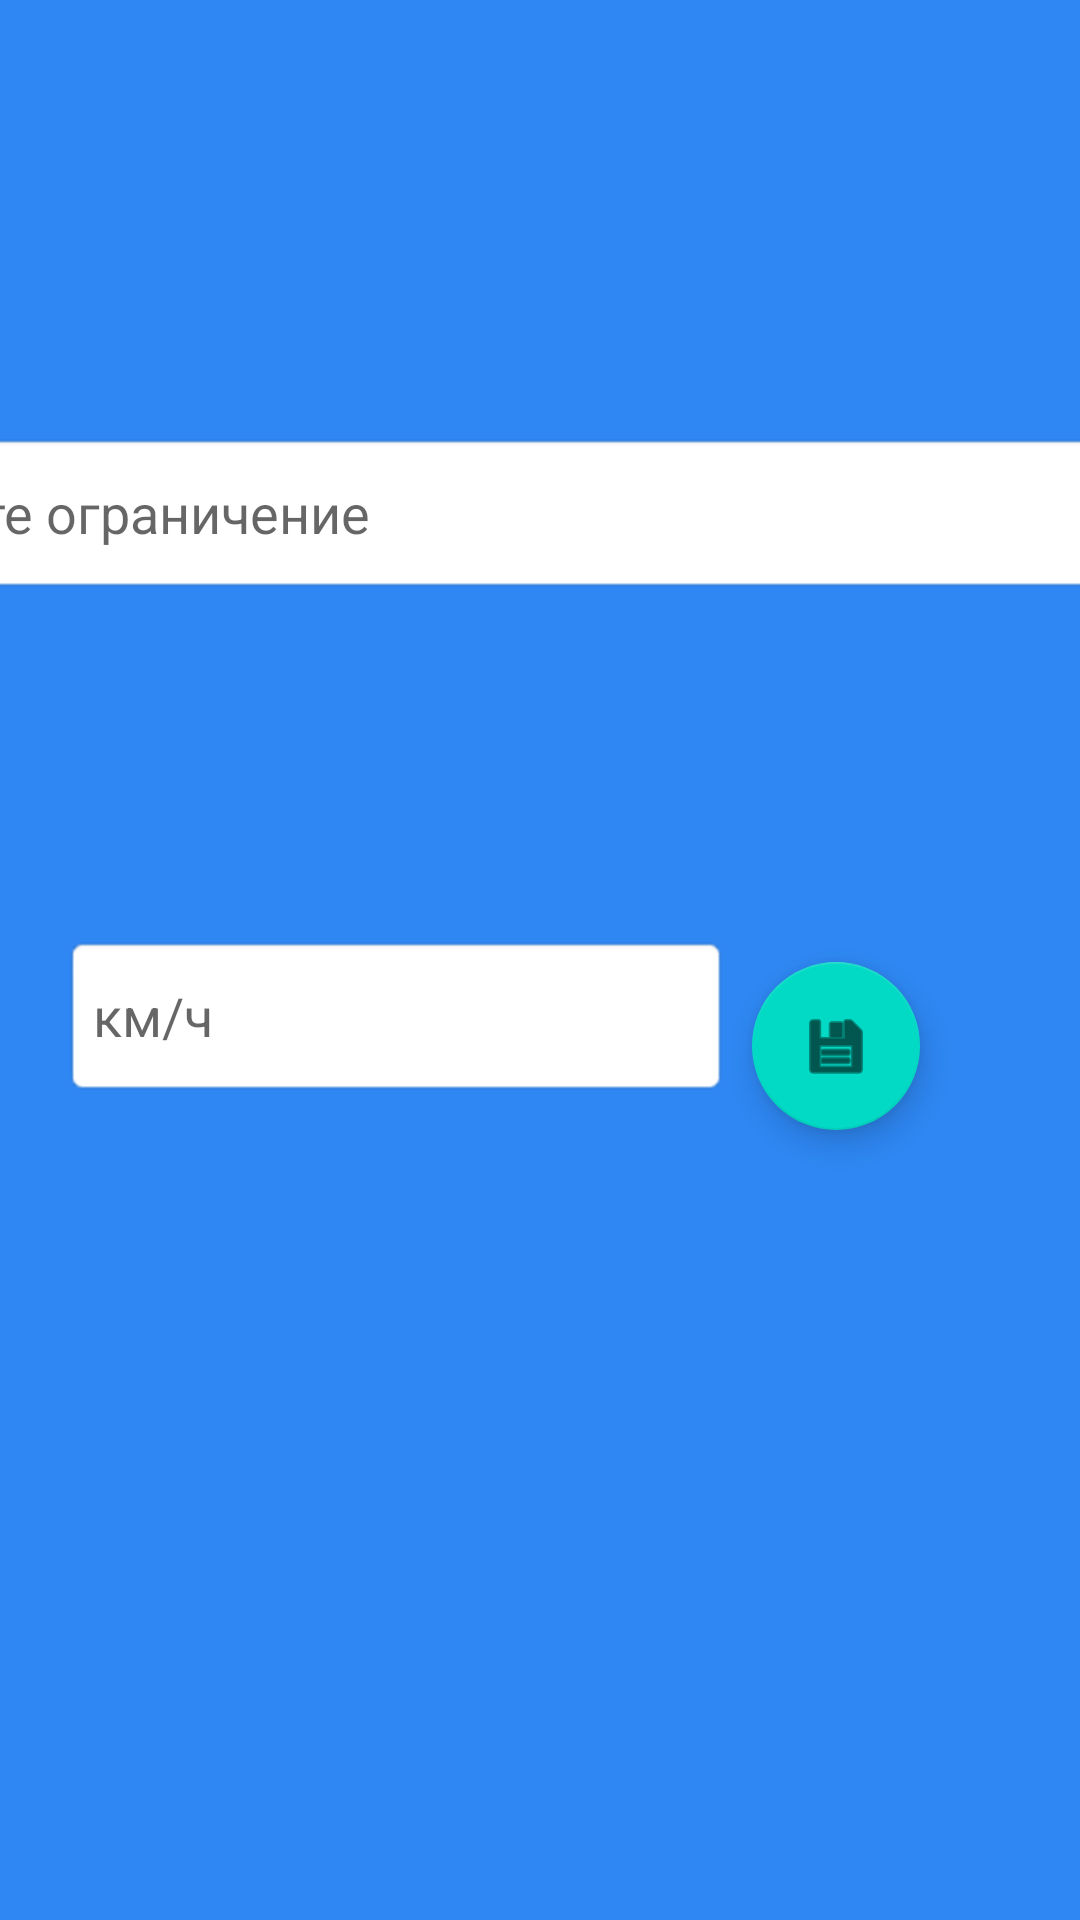

Locate icon controls on the screen. Image size 1080 x 1920, boxes as (x1, y1, x2, y2).
save: (752, 962, 920, 1130)
